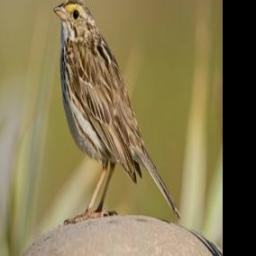Sparrow: (51, 0, 184, 238)
